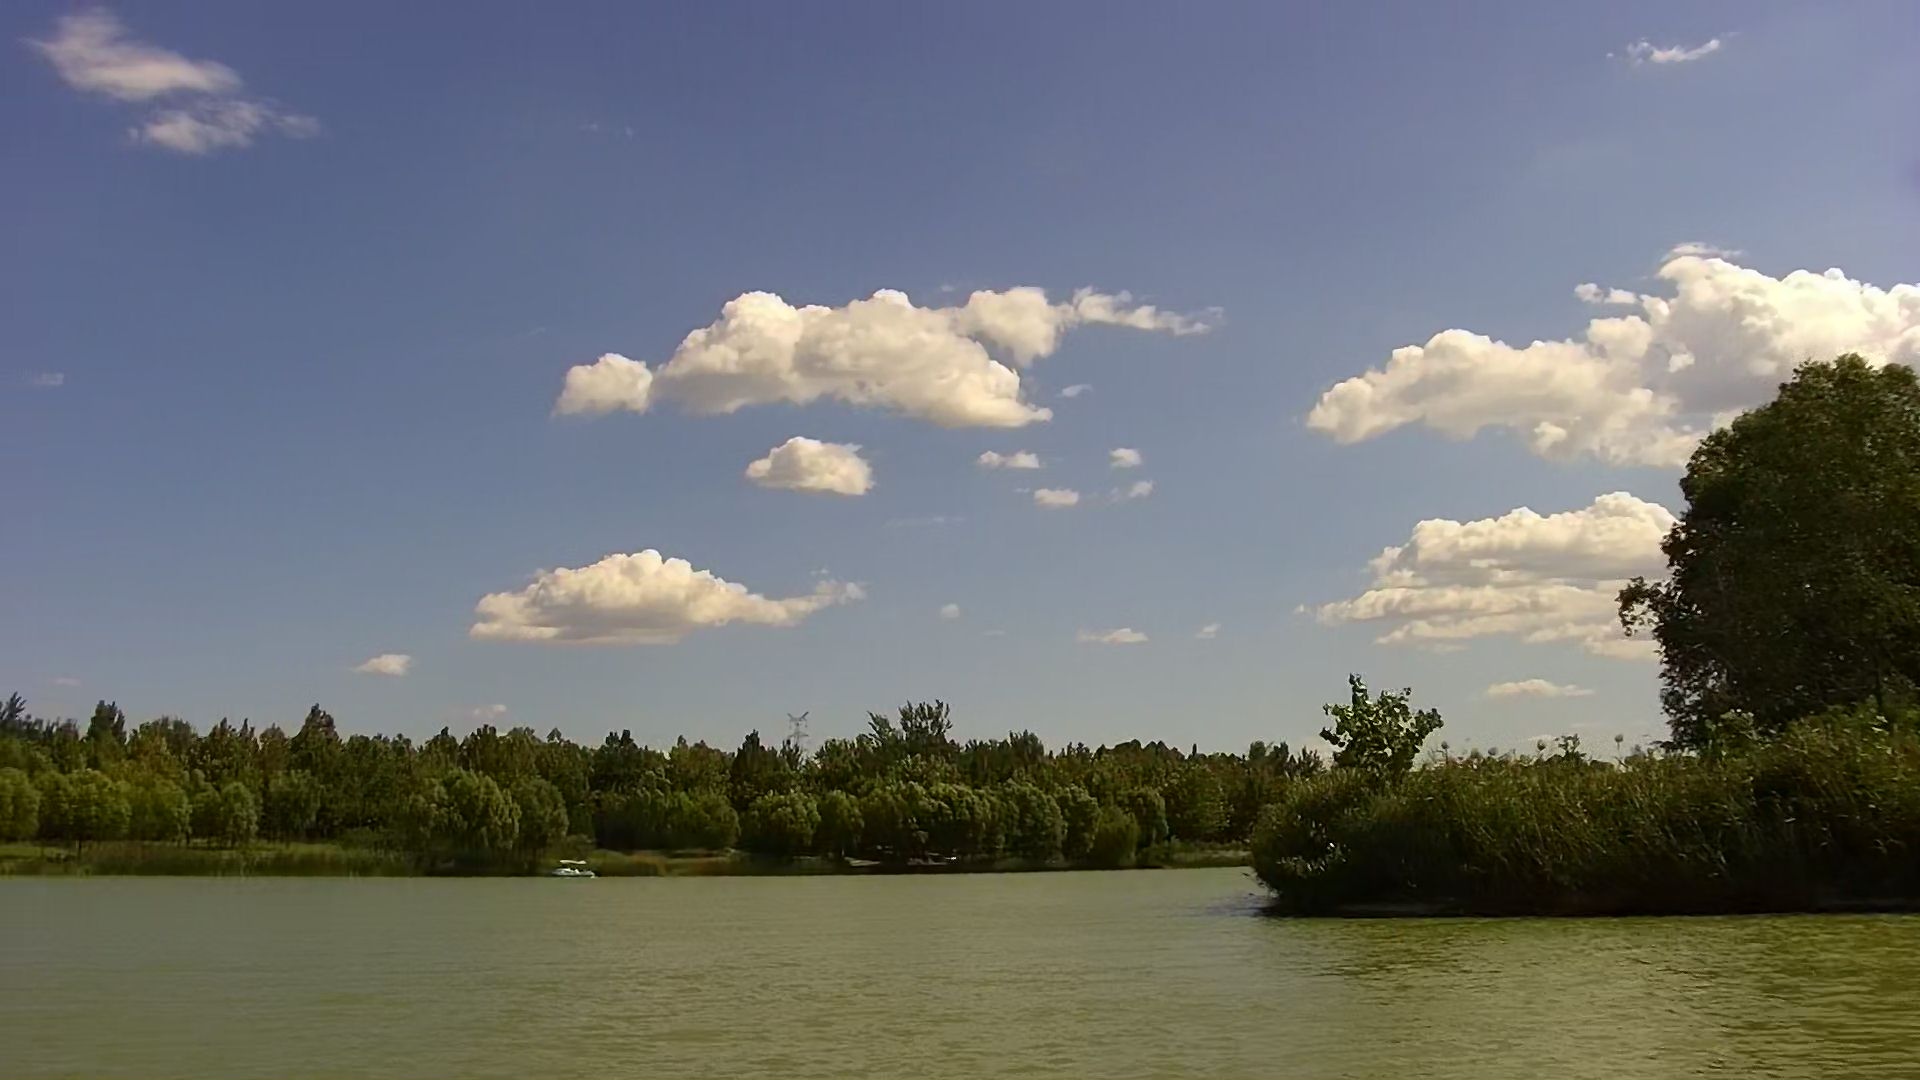boat: (549, 855, 599, 880)
